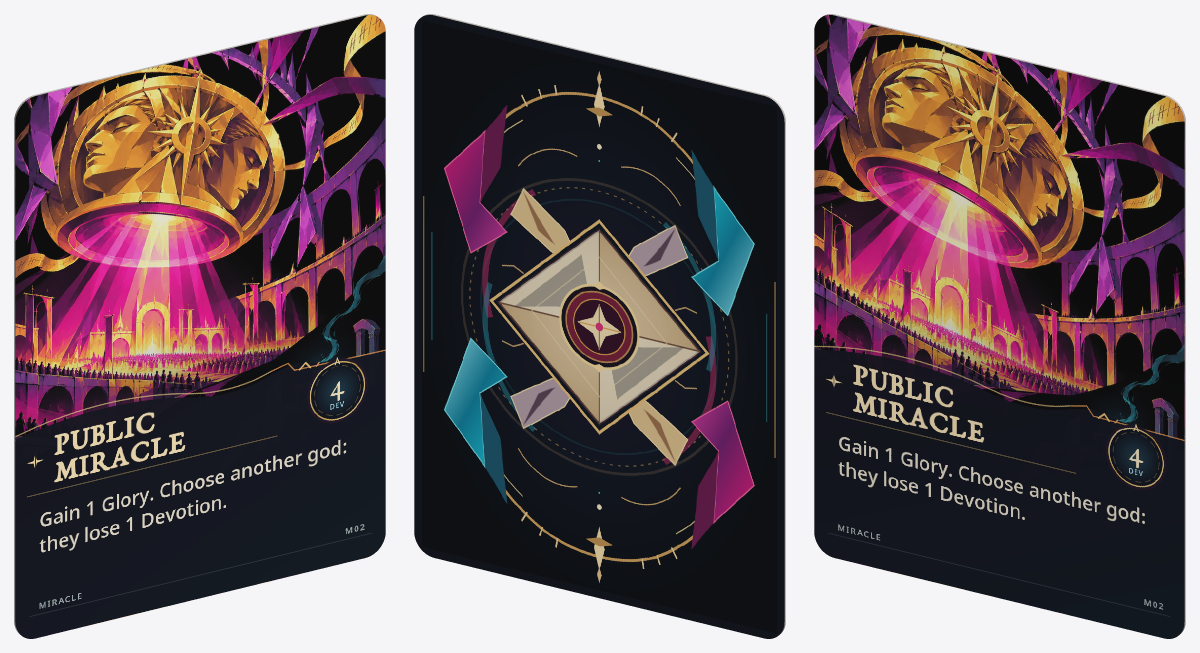
Rendered from SGLD_M02_MIRACLE_POKER_CARD_3D_v0.2-P.glb.
3 views of the same model, side by side, from view 1: azimuth 30°, elevation 25°; view 2: azimuth 150°, elevation 25°; view 3: azimuth 330°, elevation 25° (orthographic).
Visible parts, largest first — view 1: M02_FRONT, M02_EDGE; view 2: M02_BACK, M02_EDGE; view 3: M02_FRONT, M02_EDGE.
Part boxes in pixels (box(x1,y1,x2,y2)): M02_FRONT: box(15, 15, 385, 638); M02_EDGE: box(14, 14, 377, 633); M02_BACK: box(414, 15, 784, 638); M02_EDGE: box(422, 14, 785, 633); M02_FRONT: box(814, 15, 1184, 638); M02_EDGE: box(822, 14, 1185, 633).
Size of the model in its own units: 0.0635 by 0.0889 by 0.00038.
Materials: 3 (2 with a texture image).
